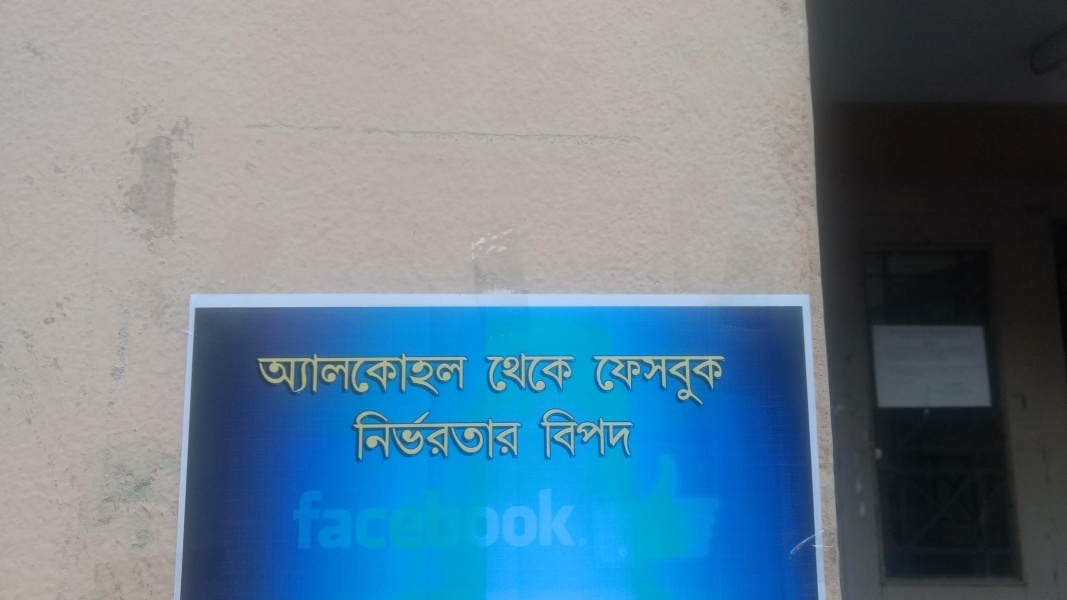text: (561, 483, 577, 556), (289, 483, 304, 556), (305, 483, 320, 556), (321, 483, 336, 556), (337, 483, 352, 556), (353, 483, 368, 556), (369, 483, 384, 556), (385, 483, 400, 556), (401, 483, 416, 556), (417, 483, 432, 556), (433, 483, 448, 556), (449, 483, 464, 556), (465, 483, 480, 556), (481, 483, 496, 556), (497, 483, 512, 556), (513, 483, 528, 556), (529, 483, 544, 556), (545, 483, 560, 556), (353, 406, 368, 467), (369, 406, 384, 467), (385, 406, 400, 467), (401, 406, 416, 467), (417, 406, 432, 467), (433, 406, 448, 467), (449, 406, 464, 467), (465, 406, 480, 467), (481, 406, 496, 467), (497, 406, 512, 467), (257, 345, 272, 404), (273, 345, 288, 404), (289, 345, 304, 404), (305, 345, 320, 404), (321, 345, 336, 404), (337, 345, 352, 404), (353, 345, 368, 404), (369, 345, 384, 404), (385, 345, 400, 404), (401, 345, 416, 404), (417, 345, 432, 404), (433, 345, 448, 404), (449, 345, 464, 404), (593, 353, 608, 408), (609, 353, 624, 408), (625, 353, 640, 408), (641, 353, 656, 408), (657, 353, 672, 408), (673, 353, 688, 408), (689, 353, 704, 408), (705, 353, 720, 408), (545, 408, 560, 462), (561, 408, 576, 462), (577, 408, 592, 462), (593, 408, 608, 462), (609, 408, 624, 462), (513, 406, 526, 467), (561, 348, 577, 397), (497, 348, 512, 397), (513, 348, 528, 397), (529, 348, 544, 397), (545, 348, 560, 397), (625, 408, 637, 462), (465, 345, 475, 404), (484, 348, 496, 397), (721, 353, 727, 408), (538, 408, 544, 462), (351, 406, 352, 467), (255, 345, 256, 404), (591, 353, 592, 408)
